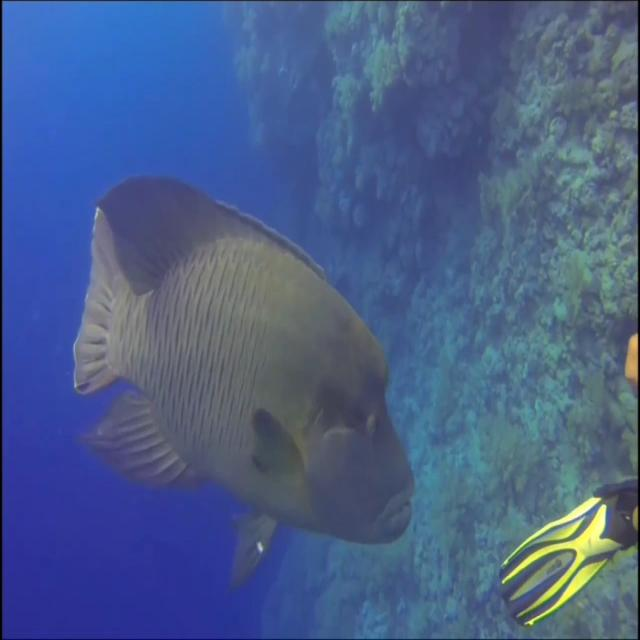Napoleon -Endangered-: (74, 174, 413, 601)
